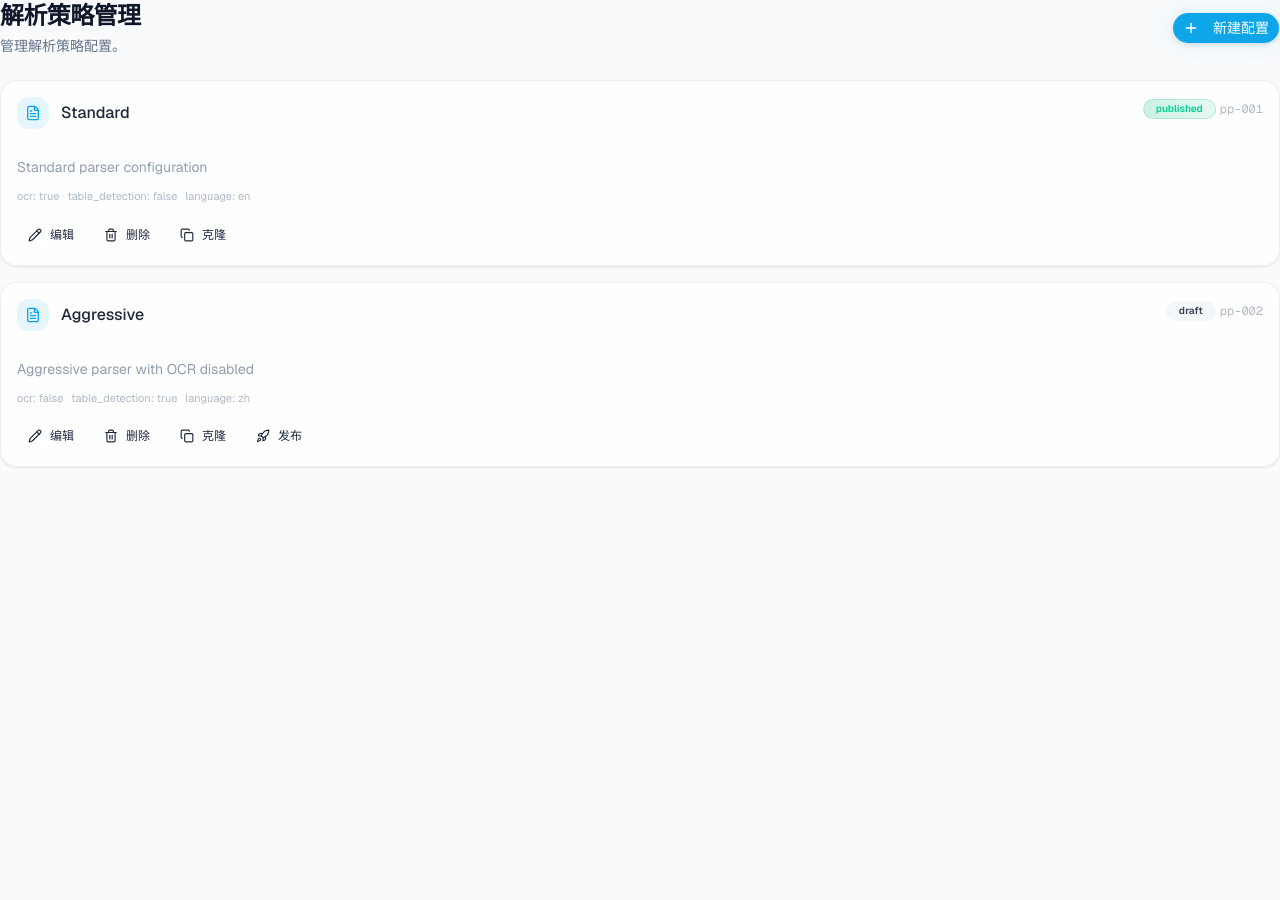
Scenario: ParserProfilesPage › Edit Profile › opens edit dialog with prefilled data
Expected: the text "Standard" is shown, [61,101,130,125]
Click the button "编辑" below "en".
click(51, 235)  # box [17,221,85,249]
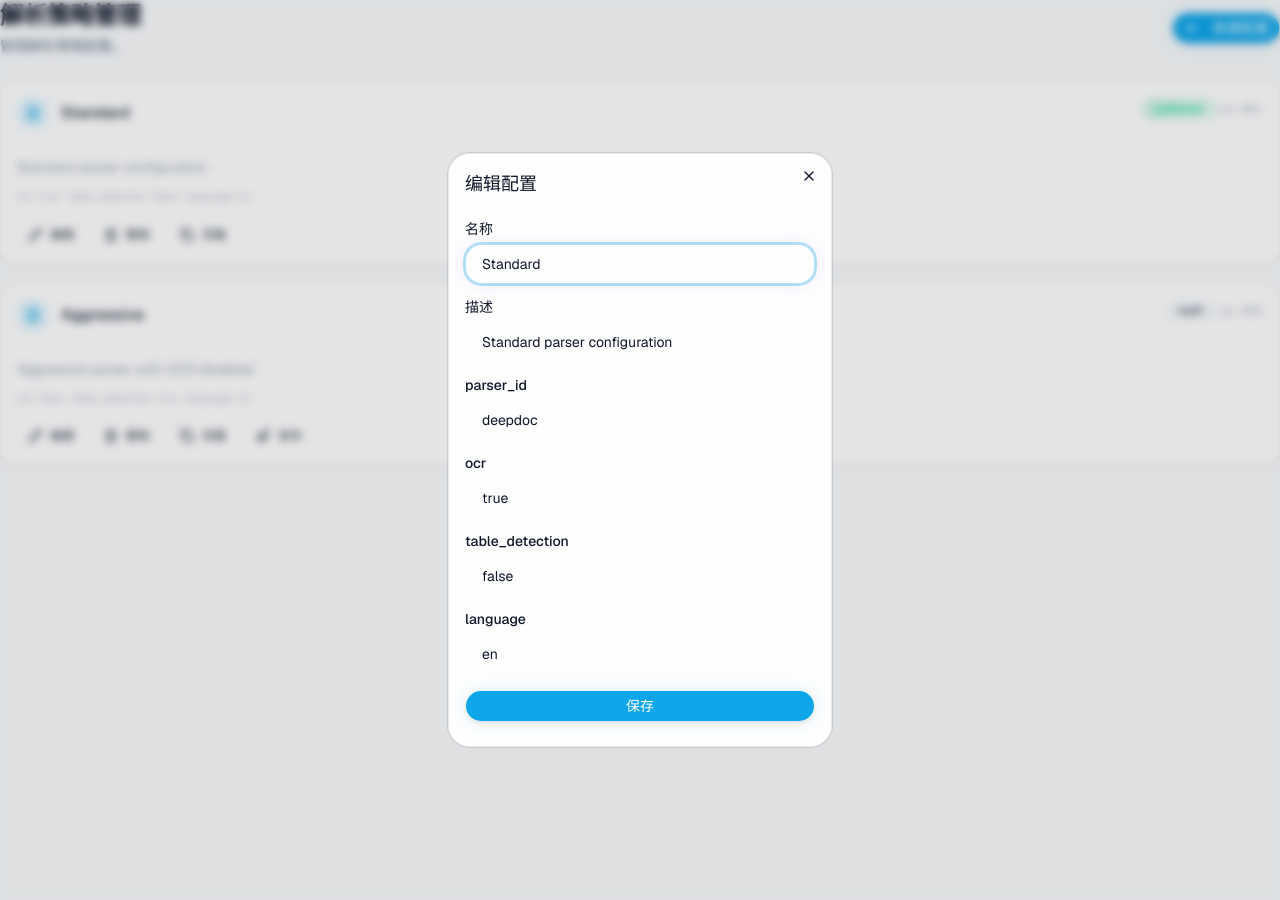
Result: the dialog with test id "edit-profile-dialog" is shown at [448,153,832,747]
Result: the field showing "Standard" is shown at [465,244,815,284]
Result: the field showing "Standard parser configuration" is shown at [465,322,815,362]
